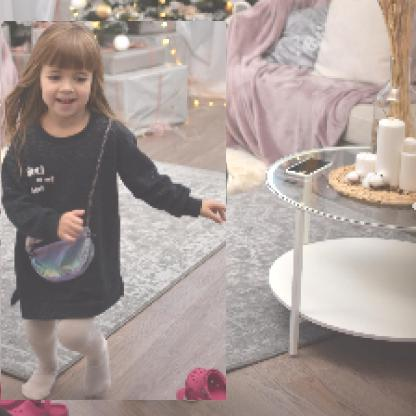child: (2, 22, 228, 402)
